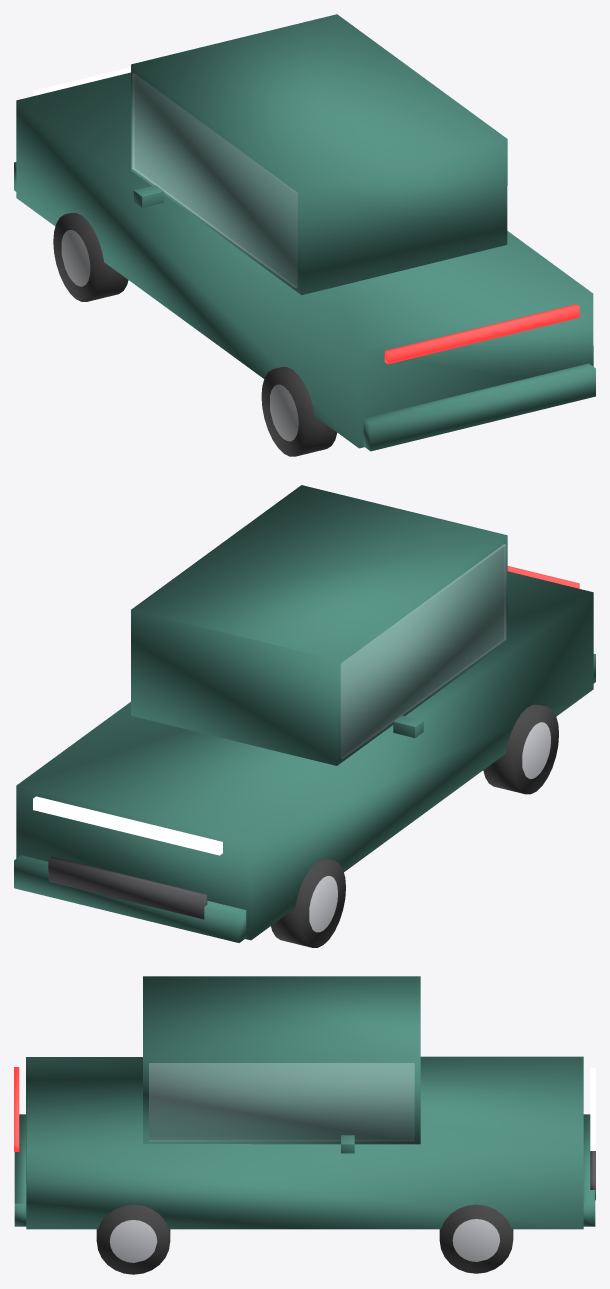
The model's file is vehicle.glb.
3 views of the same model, one above another, from view 1: azimuth 30°, elevation 25°; view 2: azimuth 150°, elevation 25°; view 3: azimuth 270°, elevation 25° (orthographic). The views are drawn at different scales.
Parts seen in each view (by area): view 1: BODY_Roof, BODY_Main, GLASS_Greenhouse, BODY_Bumpers_Rear, WHEEL_RR_Tire, WHEEL_FR_Tire, LIGHT_Taillights, WHEEL_FR_Alloy, WHEEL_RR_Alloy, LIGHT_Headlights; view 2: BODY_Roof, BODY_Main, GLASS_Greenhouse, BODY_Bumpers_Front, BODY_Grille, WHEEL_RR_Tire, WHEEL_FR_Tire, LIGHT_Headlights, WHEEL_FR_Alloy, WHEEL_RR_Alloy; view 3: BODY_Main, BODY_Roof, GLASS_Greenhouse, WHEEL_RL_Tire, WHEEL_FL_Tire, WHEEL_FL_Alloy, WHEEL_RL_Alloy, BODY_Bumpers_Rear, BODY_Bumpers_Front, LIGHT_Taillights, LIGHT_Headlights.
Part boxes in pixels (x1=…): BODY_Roof: x1=131, y1=14, x2=507, y2=295; BODY_Main: x1=16, y1=72, x2=593, y2=448; GLASS_Greenhouse: x1=132, y1=73, x2=297, y2=287; BODY_Bumpers_Rear: x1=363, y1=363, x2=595, y2=451; WHEEL_RR_Tire: x1=261, y1=367, x2=337, y2=456; WHEEL_FR_Tire: x1=53, y1=213, x2=128, y2=301; LIGHT_Taillights: x1=384, y1=304, x2=579, y2=364; WHEEL_FR_Alloy: x1=61, y1=230, x2=90, y2=286; WHEEL_RR_Alloy: x1=270, y1=384, x2=298, y2=441; LIGHT_Headlights: x1=33, y1=67, x2=130, y2=96; BODY_Roof: x1=131, y1=485, x2=507, y2=765; BODY_Main: x1=16, y1=571, x2=593, y2=940; GLASS_Greenhouse: x1=341, y1=544, x2=506, y2=758; BODY_Bumpers_Front: x1=14, y1=855, x2=246, y2=942; BODY_Grille: x1=48, y1=856, x2=207, y2=919; WHEEL_RR_Tire: x1=483, y1=704, x2=558, y2=794; WHEEL_FR_Tire: x1=271, y1=858, x2=345, y2=947; LIGHT_Headlights: x1=33, y1=796, x2=222, y2=855; WHEEL_FR_Alloy: x1=309, y1=876, x2=337, y2=932; WHEEL_RR_Alloy: x1=522, y1=722, x2=550, y2=778; BODY_Main: x1=26, y1=1056, x2=583, y2=1229; BODY_Roof: x1=143, y1=976, x2=420, y2=1144; GLASS_Greenhouse: x1=149, y1=1063, x2=414, y2=1141; WHEEL_RL_Tire: x1=96, y1=1204, x2=170, y2=1274; WHEEL_FL_Tire: x1=439, y1=1204, x2=513, y2=1273; WHEEL_FL_Alloy: x1=452, y1=1219, x2=499, y2=1261; WHEEL_RL_Alloy: x1=109, y1=1220, x2=157, y2=1262; BODY_Bumpers_Rear: x1=14, y1=1114, x2=26, y2=1226; BODY_Bumpers_Front: x1=583, y1=1114, x2=595, y2=1226; LIGHT_Taillights: x1=14, y1=1067, x2=19, y2=1151; LIGHT_Headlights: x1=590, y1=1067, x2=595, y2=1150.
Size of the model in its own units: 2.3 by 1.99 by 5.06.
